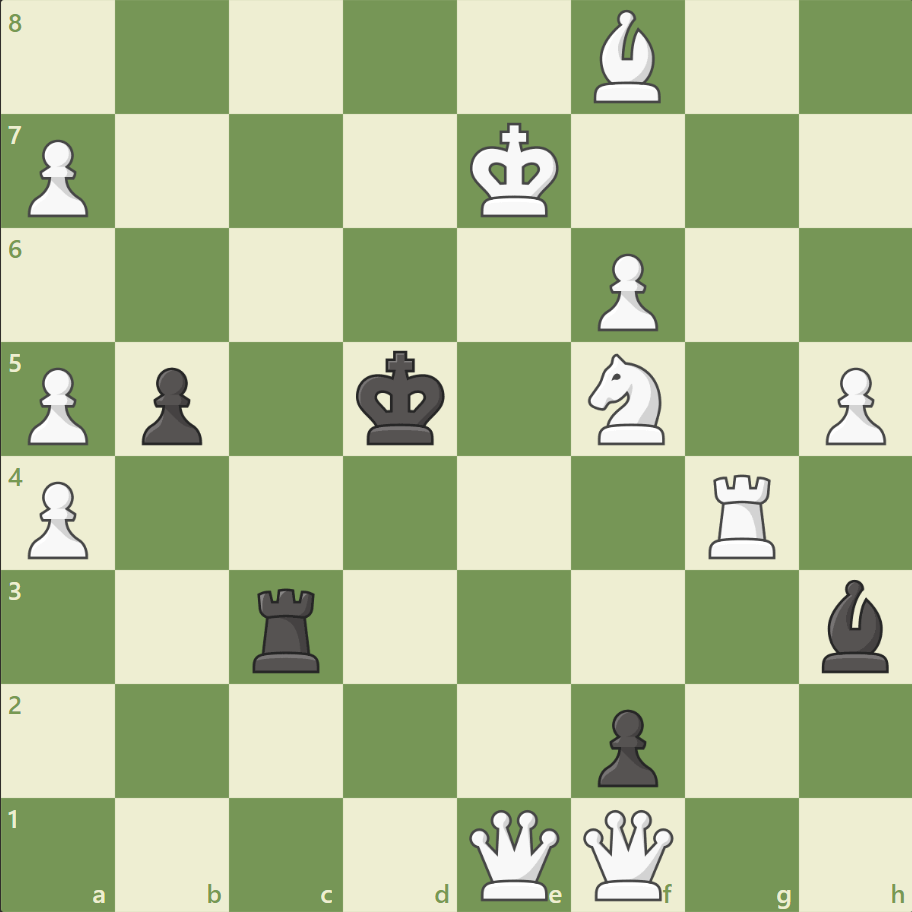B: (585, 6, 669, 109)
K: (465, 117, 565, 225)
N: (579, 348, 676, 450)
P: (20, 132, 95, 223), (20, 359, 95, 450), (20, 473, 95, 564), (588, 246, 662, 337), (815, 359, 889, 450)
Q: (464, 804, 563, 903), (578, 804, 677, 903)
R: (700, 466, 783, 563)
b: (812, 574, 896, 676)
k: (351, 344, 451, 452)
p: (133, 359, 208, 450), (588, 700, 662, 791)
r: (246, 579, 329, 676)
